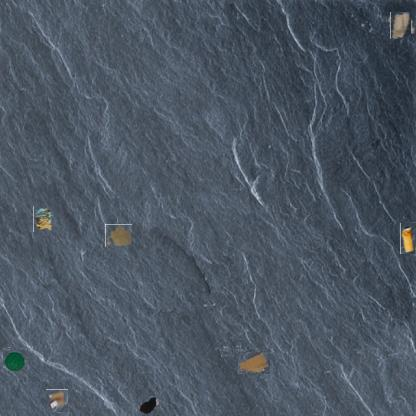dirty: (238, 352, 270, 374), (389, 13, 413, 38), (3, 347, 28, 371), (33, 206, 54, 232), (46, 390, 69, 412), (400, 222, 415, 254)
liquid: (105, 224, 132, 247), (138, 396, 160, 416)
